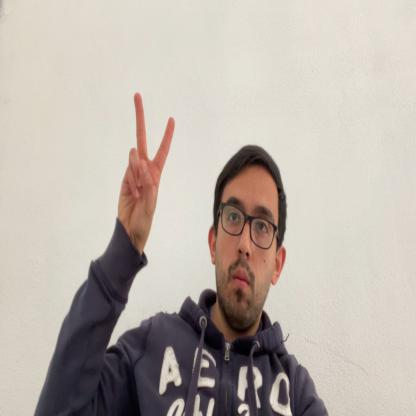V: (118, 90, 176, 250)
